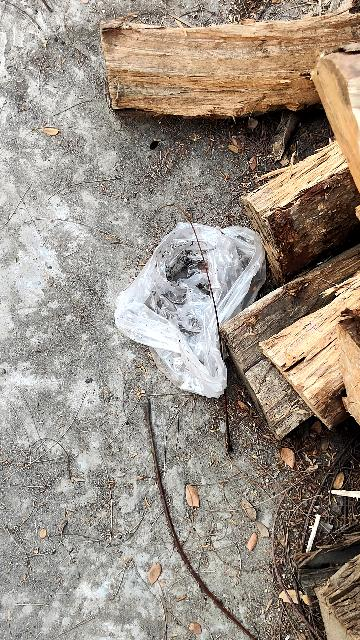polythene: (119, 211, 263, 395)
